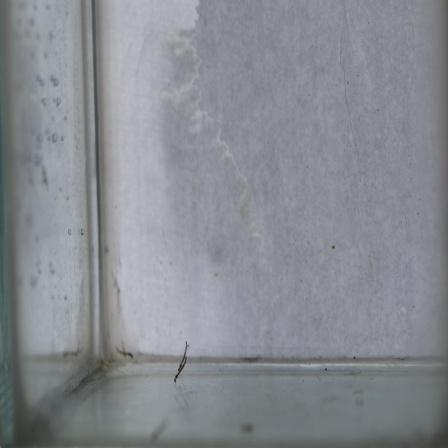Jentik-Nyamuk: (172, 336, 189, 386), (115, 343, 136, 361)
